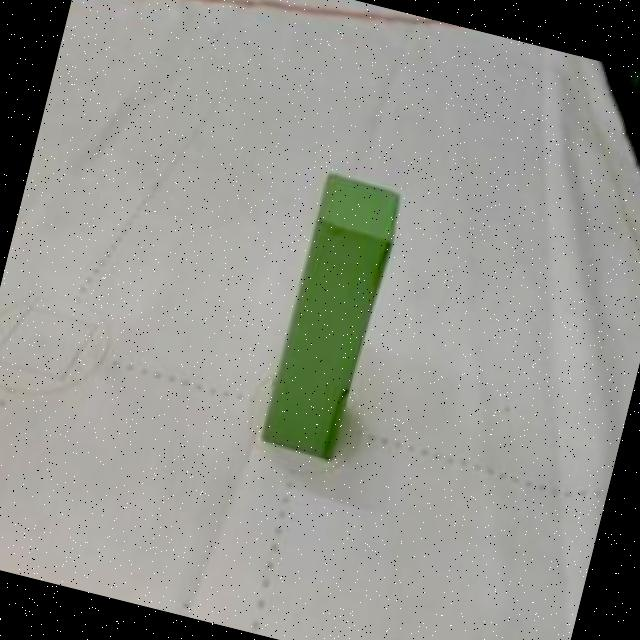greenbox: (252, 168, 408, 462)
